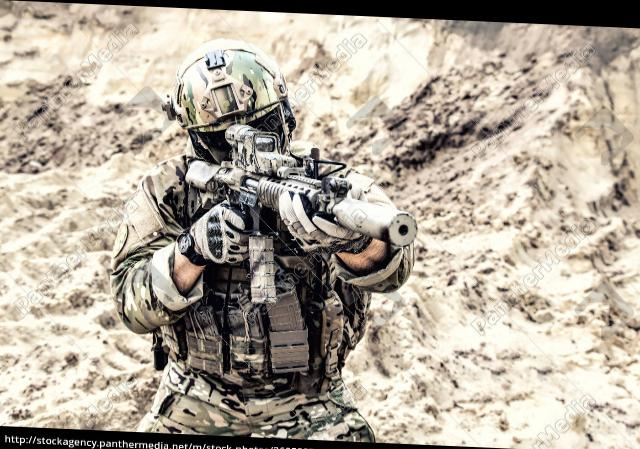other: (107, 41, 416, 435)
